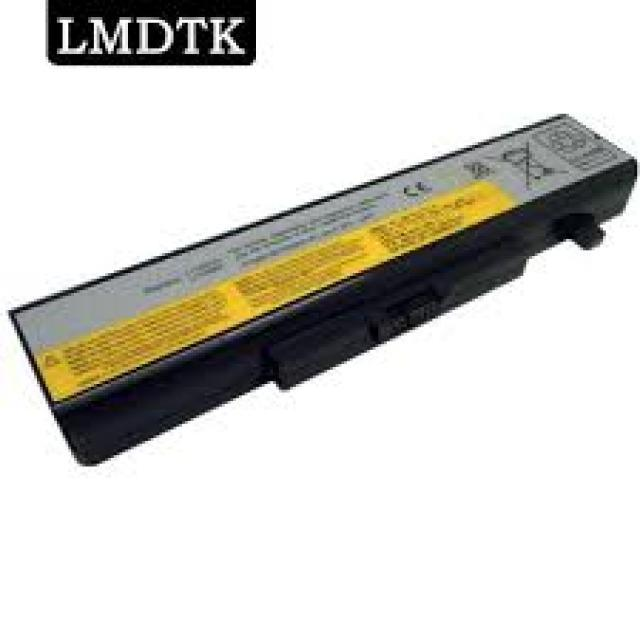battery: (10, 112, 638, 467)
